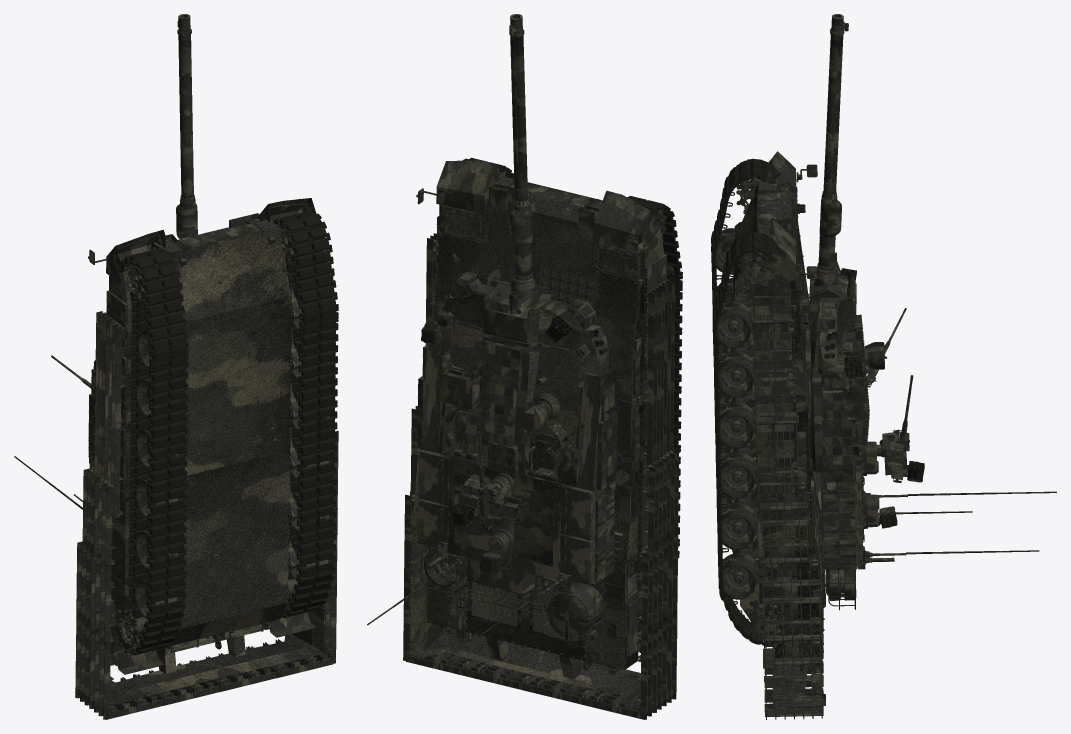
Rendered from k2_aresMBTX11.glb.
3 renders of one model, left to right at view 1: azimuth 30°, elevation 25°; view 2: azimuth 150°, elevation 25°; view 3: azimuth 270°, elevation 25°, orthographic. The views are drawn at different scales.
Parts seen in each view (by area): view 1: main turret; view 2: main turret; view 3: main turret.
Boxes of the visible parts, bbox=[...] form: main turret: bbox=[14, 14, 338, 719]; main turret: bbox=[367, 14, 682, 719]; main turret: bbox=[711, 14, 1056, 719].
Size of the model in its own units: 121 by 325 by 157.
1 material, 1 textured.
